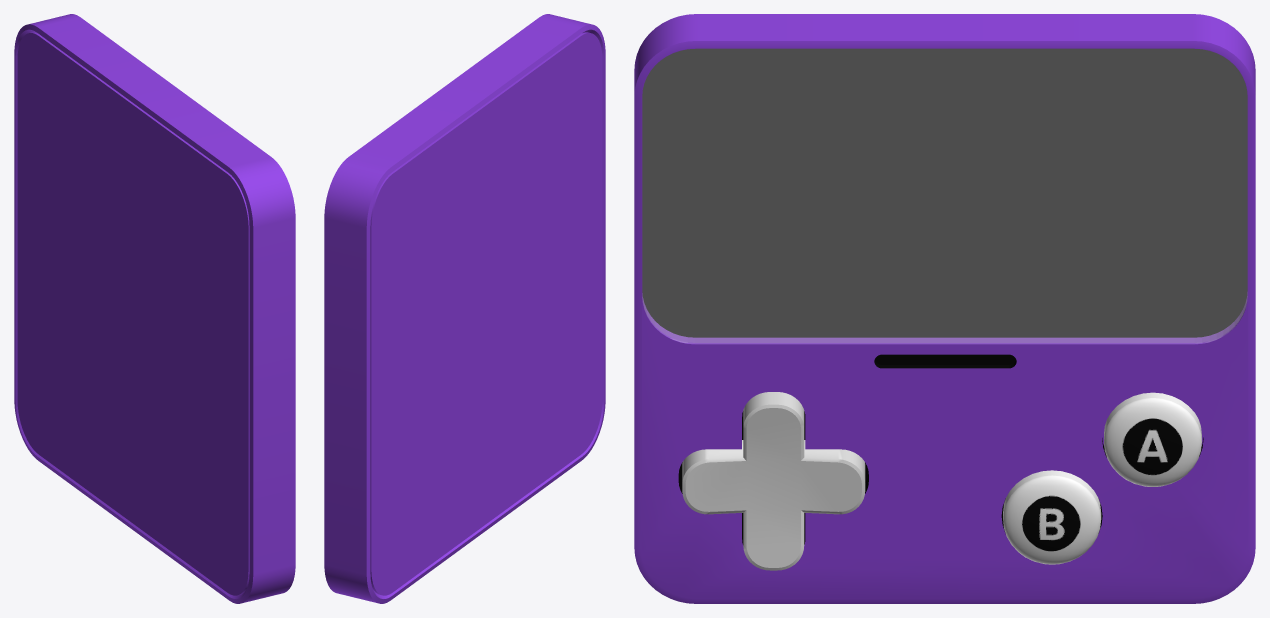
The model's file is webboy.glb.
3 renders of one model, left to right at view 1: azimuth 30°, elevation 25°; view 2: azimuth 150°, elevation 25°; view 3: azimuth 270°, elevation 25°, orthographic. The views are drawn at different scales.
Visible parts, largest first — view 1: Console; view 2: Console; view 3: Console, Glass, DPad, A Button, B Button.
Boxes of the visible parts, x1,y1,x2,y2 form: Console: (14, 14, 295, 603); Console: (324, 14, 605, 603); Console: (634, 14, 1255, 603); Glass: (642, 49, 1247, 343); DPad: (682, 392, 865, 570); A Button: (1104, 392, 1201, 486); B Button: (1003, 470, 1101, 564).
Bounding box in the file's own units: 0.2919 × 2 × 2.
Materials: 6 (2 with a texture image).
